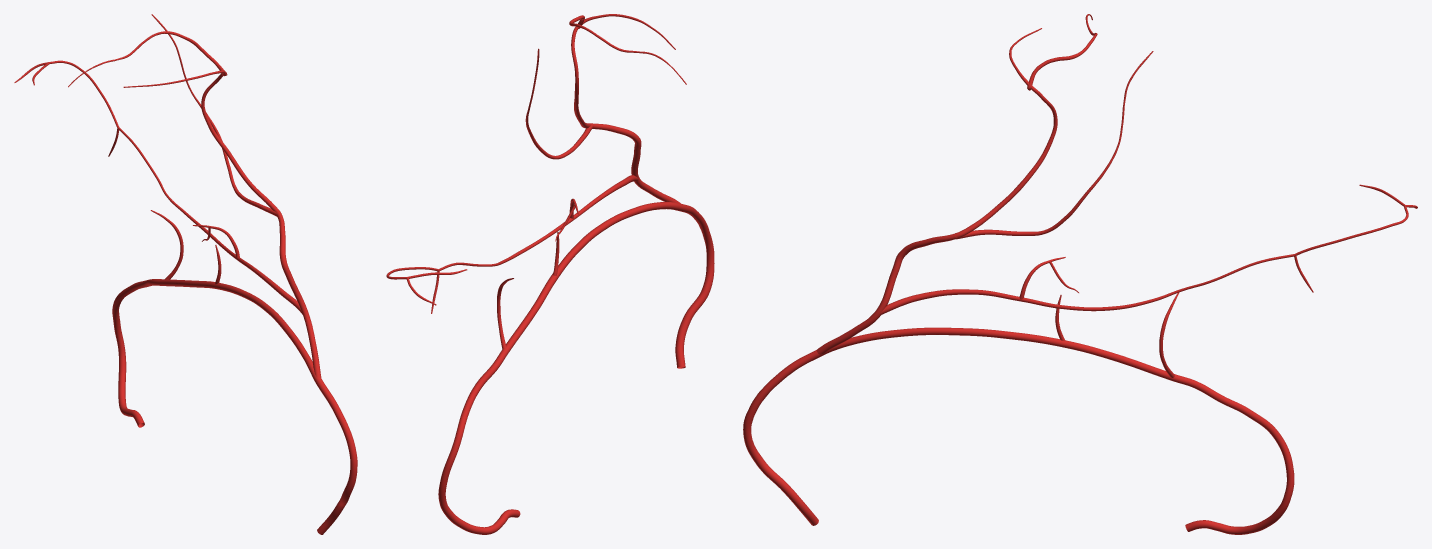
File: circulatorio-pericallosal-artery-r.glb
3 views of the same model, side by side, from view 1: azimuth 30°, elevation 25°; view 2: azimuth 150°, elevation 25°; view 3: azimuth 270°, elevation 25° (orthographic). The views are drawn at different scales.
Parts seen in each view (by area): view 1: Pericallosal artery.r; view 2: Pericallosal artery.r; view 3: Pericallosal artery.r.
Boxes of the visible parts, x1,y1,x2,y2 form: Pericallosal artery.r: (14, 14, 357, 534); Pericallosal artery.r: (386, 14, 714, 534); Pericallosal artery.r: (743, 14, 1417, 534).
Size of the model in its own units: 0.0312 by 0.0844 by 0.1064.
